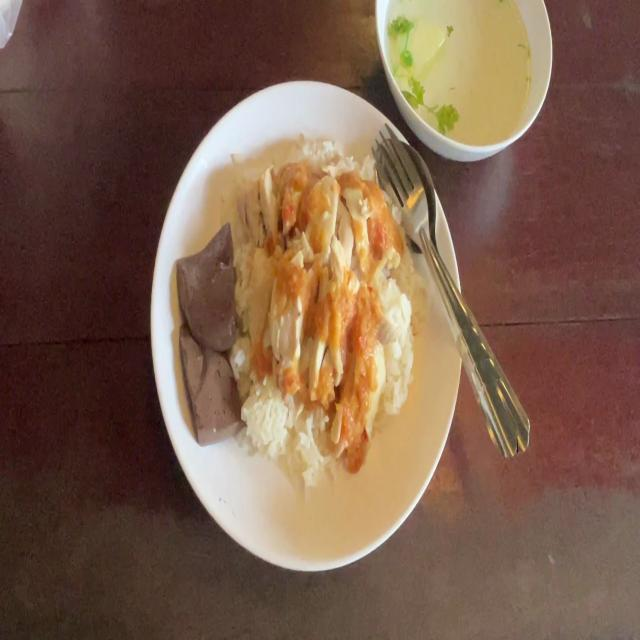chicken_rice: (236, 164, 391, 423)
noodle: (176, 232, 236, 358), (175, 321, 237, 435)
